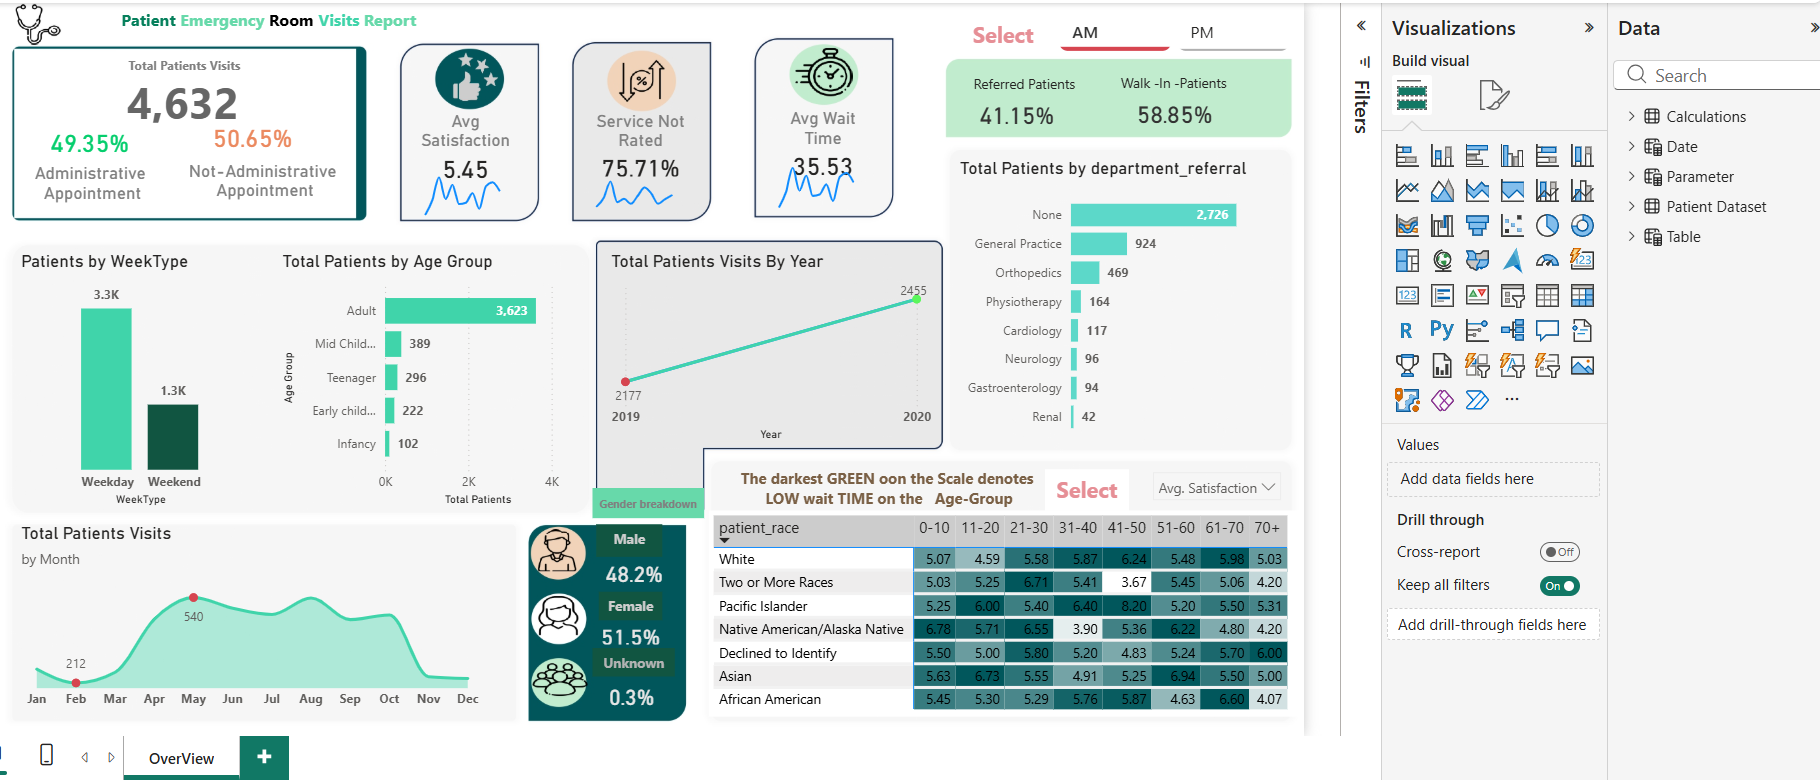

What the dashboard file says about the page in this screenshot:
{"tool":"powerbi","page":{"name":"Page 1","canvas":[1280,720],"ordinal":0},"visuals":[{"type":"card","fields":{"Values":["Calculations.Total Patients"]},"box":[99.4,71.2,160.7,51.5],"z":0},{"type":"card","fields":{"Values":["Calculations.% Administrative schedule"]},"box":[38,122.7,100.6,29.4],"z":1000},{"type":"card","fields":{"Values":["Calculations.% None - Administrative schedule"]},"box":[189,115.3,117.8,34.4],"z":2000},{"type":"pivotTable","fields":{"Values":["Calculations.Average Satisfaction"],"Rows":["Patient Dataset.patient_race"],"Columns":["Patient Dataset.Age Buckets"]},"box":[695.7,498.2,584.1,202.5],"z":3000},{"type":"slicer","fields":{"Values":["Parameter.Parameter"]},"box":[1121.5,450.3,146,40.5],"z":4000},{"type":"clusteredBarChart","fields":{"Category":["Patient Dataset.Age Group"],"Y":["Calculations.Total Patients"]},"box":[272.4,242.9,300.6,255.2],"z":5000},{"type":"areaChart","title":"Total Patients Visits","fields":{"Category":["Date.Month"],"Y":["Calculations.Total Patients","Calculations.Values  Max point (Month)"]},"box":[16.5,510.5,463.8,190.7],"z":6000},{"type":"lineChart","title":"Total Patients Visits By Year","fields":{"Y":["Calculations.Total Patients","Calculations.Values  Max point (Year)"],"Category":["Date.Year"]},"box":[595.1,242.9,323.9,191.4],"z":7000},{"type":"clusteredBarChart","fields":{"Y":["Calculations.Total Patients"],"Category":["Patient Dataset.department_referral"]},"box":[937.4,152.1,316.6,282.2],"z":8000},{"type":"card","fields":{"Values":["Calculations.%  Referred Patients"]},"box":[937.4,88.3,121.5,44.2],"z":9000},{"type":"card","fields":{"Values":["Calculations.% Un  Referred Patients"]},"box":[1079.8,85.9,146,46.6],"z":10000},{"type":"card","fields":{"Values":["Calculations.Hitmap caption"]},"box":[695.4,444.1,354.5,63.4],"z":11000},{"type":"textbox","box":[25.8,152.1,130.1,55.2],"z":12000},{"type":"textbox","box":[177.9,149.7,164.4,56.4],"z":13000},{"type":"card","title":"Avg Satisfaction","fields":{"Values":["Calculations.Average Satisfaction"]},"box":[398.8,105.5,116.6,72.4],"z":14000},{"type":"card","title":"Service Not Rated","fields":{"Values":["Calculations.% No Rating"]},"box":[573,105.5,111.7,69.9],"z":15000},{"type":"card","title":"Avg Wait Time","fields":{"Values":["Calculations.Average Wait Time"]},"box":[758.3,103.1,99.4,72.4],"z":16000},{"type":"textbox","box":[943.6,65,123.9,30.7],"z":17000},{"type":"textbox","box":[1074.9,63.8,154.6,31.9],"z":18000},{"type":"clusteredColumnChart","title":"Patients by WeekType","fields":{"Y":["Calculations.Total Patients"],"Category":["Date.WeekType"]},"box":[16,242.9,245.4,255.2],"z":19000},{"type":"card","fields":{"Values":["Calculations.% Female Visit"]},"box":[579.1,543.6,87.1,33.1],"z":20000},{"type":"card","fields":{"Values":["Calculations.% Unknown"]},"box":[579.1,661.4,82.2,39.3],"z":21000},{"type":"card","fields":{"Values":["Calculations.% Male Visit"]},"box":[575.5,607.4,87.1,25.8],"z":22000},{"type":"textbox","box":[114.1,46.6,133.7,36.8],"z":23000},{"type":"lineChart","fields":{"Y":["Calculations.Average Satisfaction"],"Category":["Date.MonthNum"]},"box":[396.3,152.1,128.8,62.6],"z":24000},{"type":"lineChart","fields":{"Y":["Calculations.% No Rating"],"Category":["Date.MonthNum"]},"box":[564.4,152.1,130.1,60.1],"z":25000},{"type":"lineChart","fields":{"Y":["Calculations.Average Satisfaction"],"Category":["Date.MonthNum"]},"box":[743.6,142.3,128.8,65],"z":26000},{"type":"textbox","box":[581.6,476.1,109.2,29.4],"z":27000},{"type":"textbox","box":[585.3,511.7,65,31.9],"z":28000},{"type":"textbox","box":[587.7,577.9,62.6,28.2],"z":29000},{"type":"textbox","box":[581.6,633.1,81,28.2],"z":30000},{"type":"textbox","box":[1025.8,457.7,82.2,40.5],"z":31000},{"type":"textbox","box":[114.1,0,309.2,33.1],"z":32000},{"type":"advancedSlicerVisual","fields":{"Values":["Patient Dataset.Moment"]},"box":[1035.6,0,234.4,51.5],"z":33000},{"type":"textbox","box":[943.6,11,82.2,40.5],"z":33001}]}

Visuals, with their boxes on the page's 1280x720 design canvas (x1, y1, x2, y2). These are canvas units, not pixel positions in the 1820x780 screenshot, which may show the page scaled, cropped or inside an application window:
card - Calculations.Total Patients: left=99, top=71, right=260, bottom=123
card - Calculations.% Administrative schedule: left=38, top=123, right=139, bottom=152
card - Calculations.% None - Administrative schedule: left=189, top=115, right=307, bottom=150
pivotTable - Calculations.Average Satisfaction x Patient Dataset.patient_race: left=696, top=498, right=1280, bottom=701
slicer - Parameter.Parameter: left=1122, top=450, right=1268, bottom=491
clusteredBarChart - Patient Dataset.Age Group x Calculations.Total Patients: left=272, top=243, right=573, bottom=498
"Total Patients Visits" areaChart: left=16, top=510, right=480, bottom=701
"Total Patients Visits By Year" lineChart: left=595, top=243, right=919, bottom=434
clusteredBarChart - Calculations.Total Patients x Patient Dataset.department_referral: left=937, top=152, right=1254, bottom=434
card - Calculations.%  Referred Patients: left=937, top=88, right=1059, bottom=132
card - Calculations.% Un  Referred Patients: left=1080, top=86, right=1226, bottom=132
card - Calculations.Hitmap caption: left=695, top=444, right=1050, bottom=508
textbox: left=26, top=152, right=156, bottom=207
textbox: left=178, top=150, right=342, bottom=206
"Avg Satisfaction" card: left=399, top=106, right=515, bottom=178
"Service Not Rated" card: left=573, top=106, right=685, bottom=175
"Avg Wait Time" card: left=758, top=103, right=858, bottom=176
textbox: left=944, top=65, right=1068, bottom=96
textbox: left=1075, top=64, right=1230, bottom=96
"Patients by WeekType" clusteredColumnChart: left=16, top=243, right=261, bottom=498
card - Calculations.% Female Visit: left=579, top=544, right=666, bottom=577
card - Calculations.% Unknown: left=579, top=661, right=661, bottom=701
card - Calculations.% Male Visit: left=576, top=607, right=663, bottom=633
textbox: left=114, top=47, right=248, bottom=83
lineChart - Calculations.Average Satisfaction x Date.MonthNum: left=396, top=152, right=525, bottom=215
lineChart - Calculations.% No Rating x Date.MonthNum: left=564, top=152, right=694, bottom=212
lineChart - Calculations.Average Satisfaction x Date.MonthNum: left=744, top=142, right=872, bottom=207
textbox: left=582, top=476, right=691, bottom=506
textbox: left=585, top=512, right=650, bottom=544
textbox: left=588, top=578, right=650, bottom=606
textbox: left=582, top=633, right=663, bottom=661
textbox: left=1026, top=458, right=1108, bottom=498
textbox: left=114, top=0, right=423, bottom=33
advancedSlicerVisual - Patient Dataset.Moment: left=1036, top=0, right=1270, bottom=52
textbox: left=944, top=11, right=1026, bottom=52
